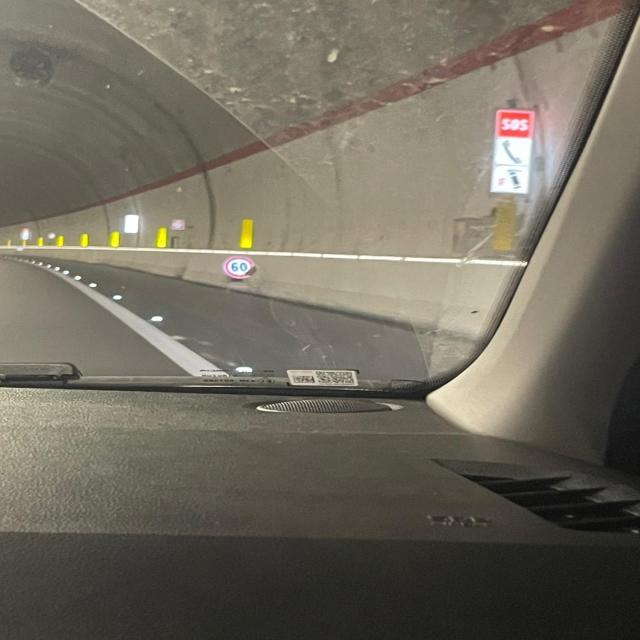forb_speed_over_60: (223, 255, 257, 279)
